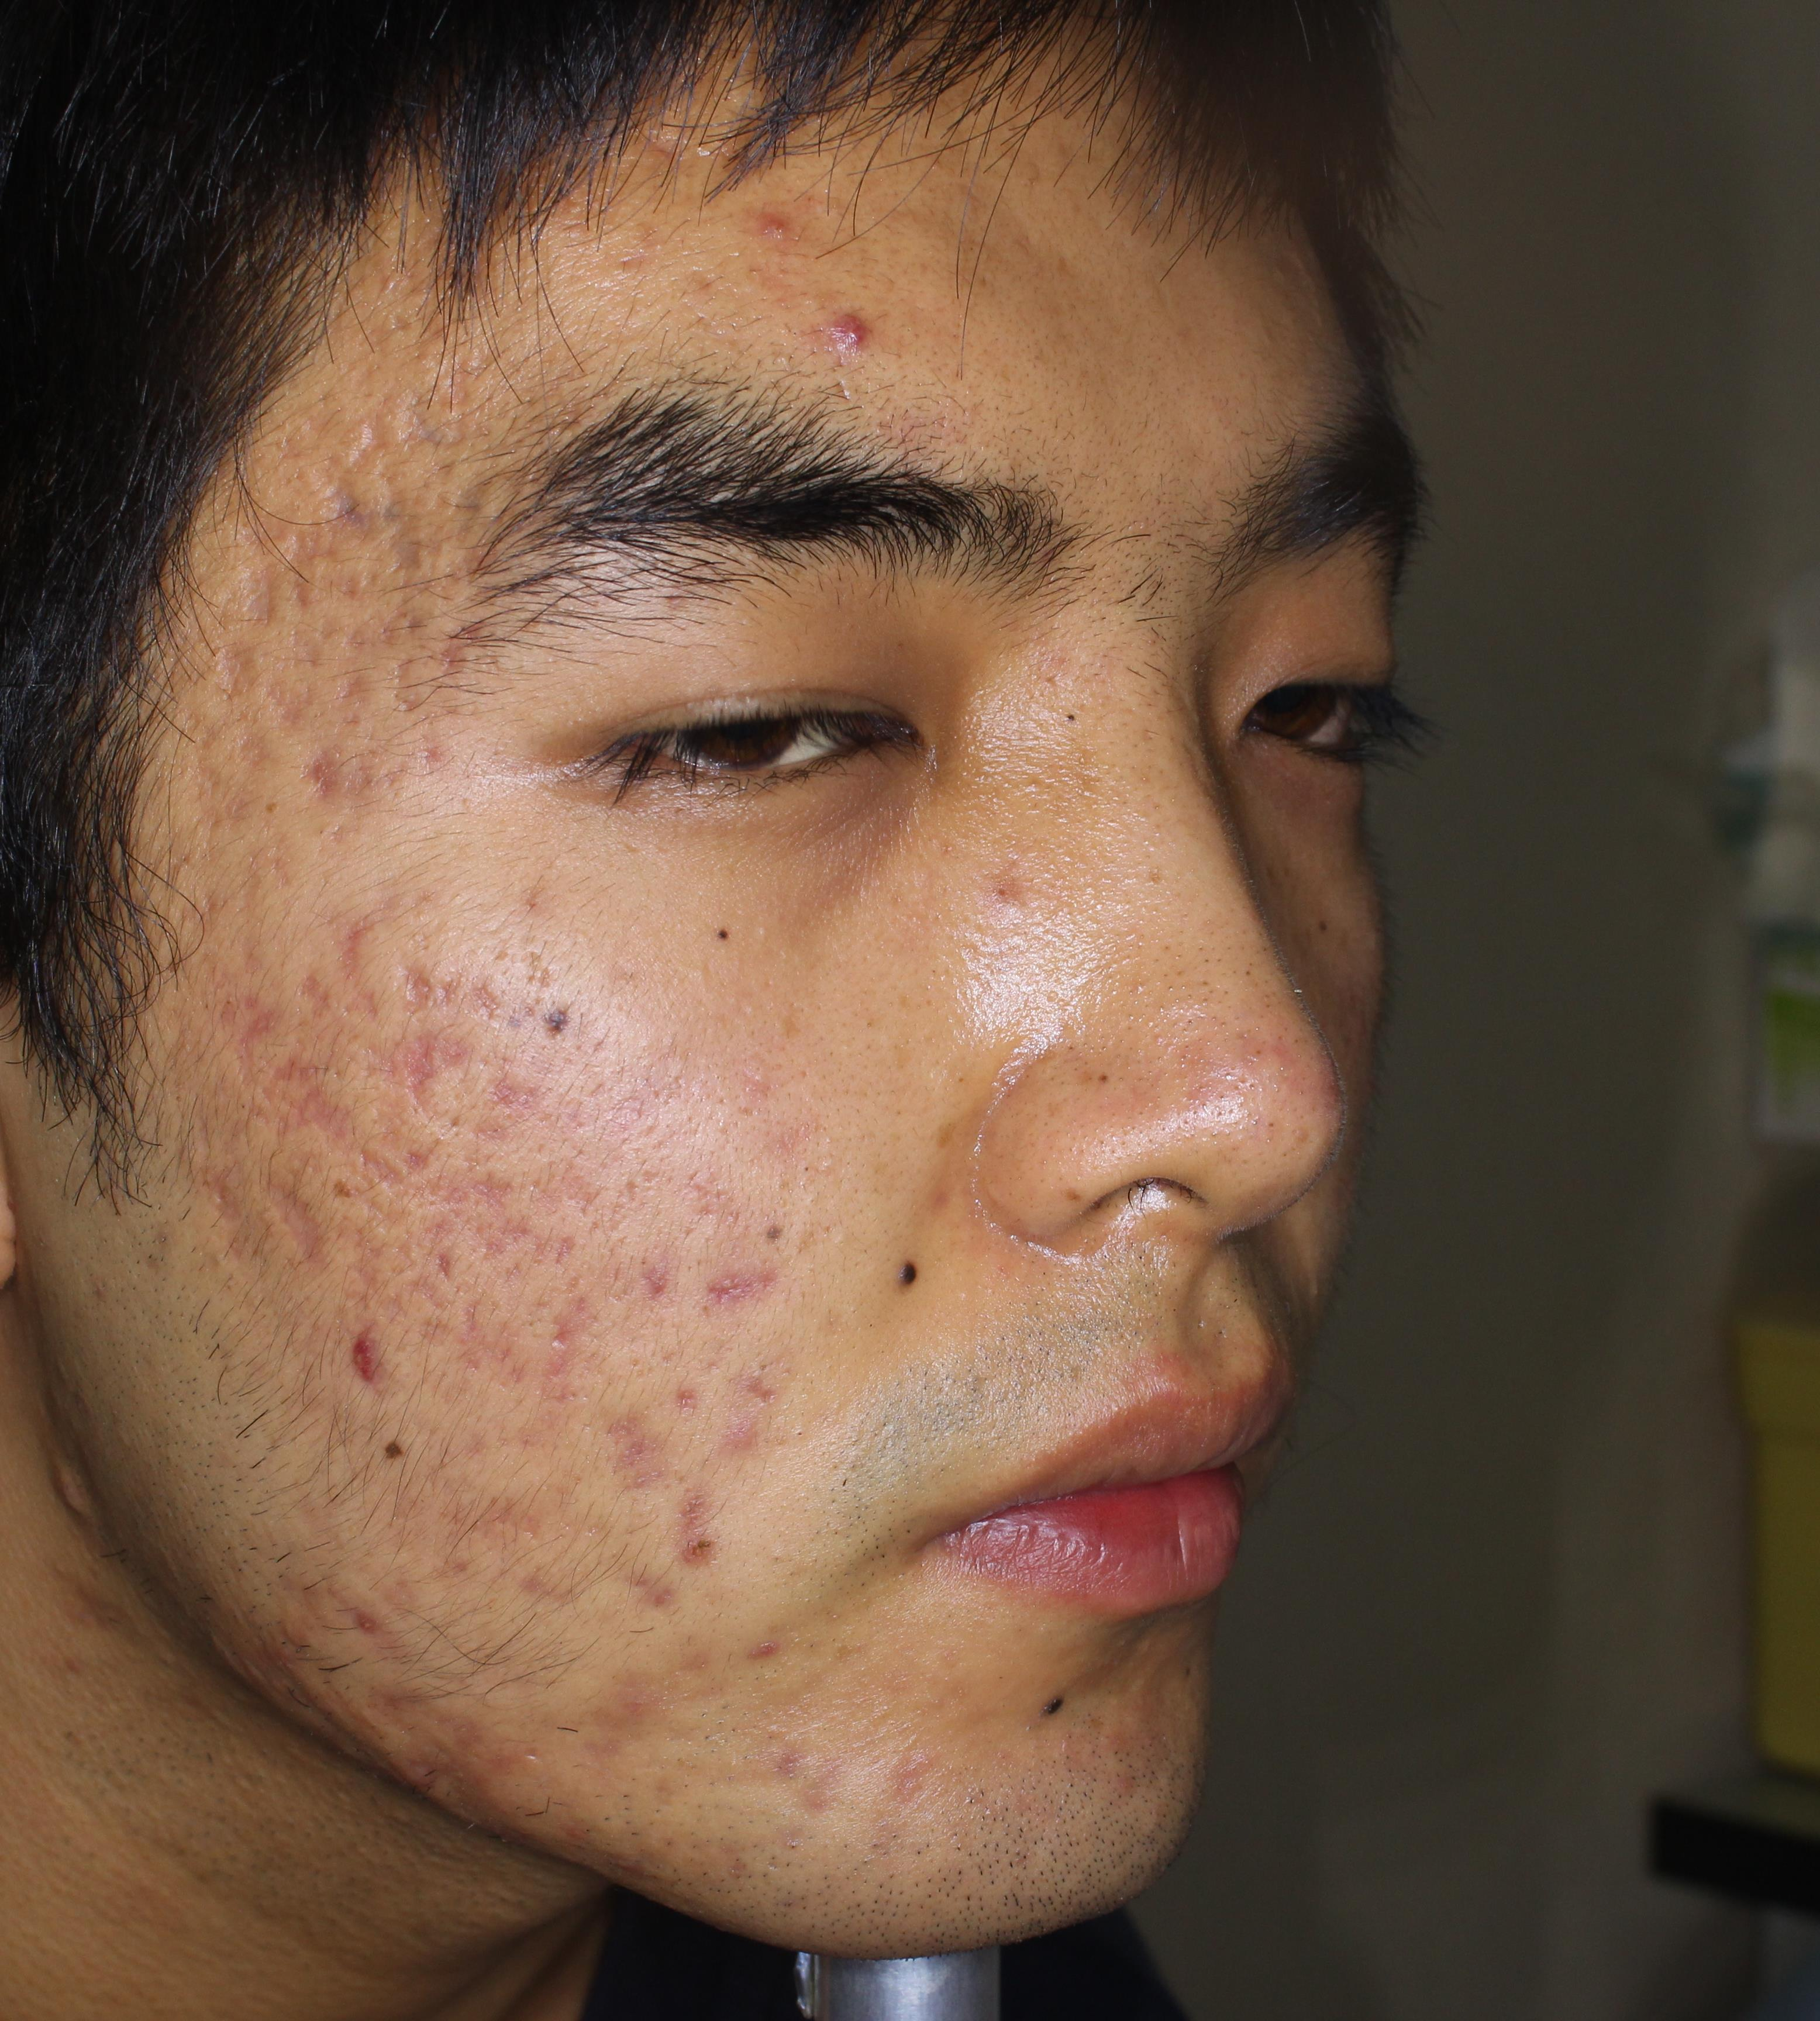fore: (341, 1666, 471, 1773), (395, 688, 490, 832), (459, 1141, 562, 1266), (418, 613, 539, 711), (320, 1312, 422, 1424), (727, 1347, 840, 1442), (265, 1061, 364, 1164), (297, 908, 401, 997), (311, 1577, 413, 1666), (632, 1370, 745, 1450), (279, 737, 378, 827), (754, 1719, 843, 1817), (274, 460, 369, 550), (655, 1491, 750, 1580), (204, 985, 283, 1087), (511, 1298, 606, 1375), (740, 174, 829, 255), (592, 1231, 673, 1312), (690, 1236, 776, 1312), (418, 1280, 490, 1361), (401, 967, 471, 1043), (453, 1745, 534, 1809), (817, 304, 898, 362), (381, 1222, 462, 1280), (300, 662, 404, 702), (597, 1419, 655, 1491), (239, 558, 306, 616), (372, 1034, 436, 1083)
